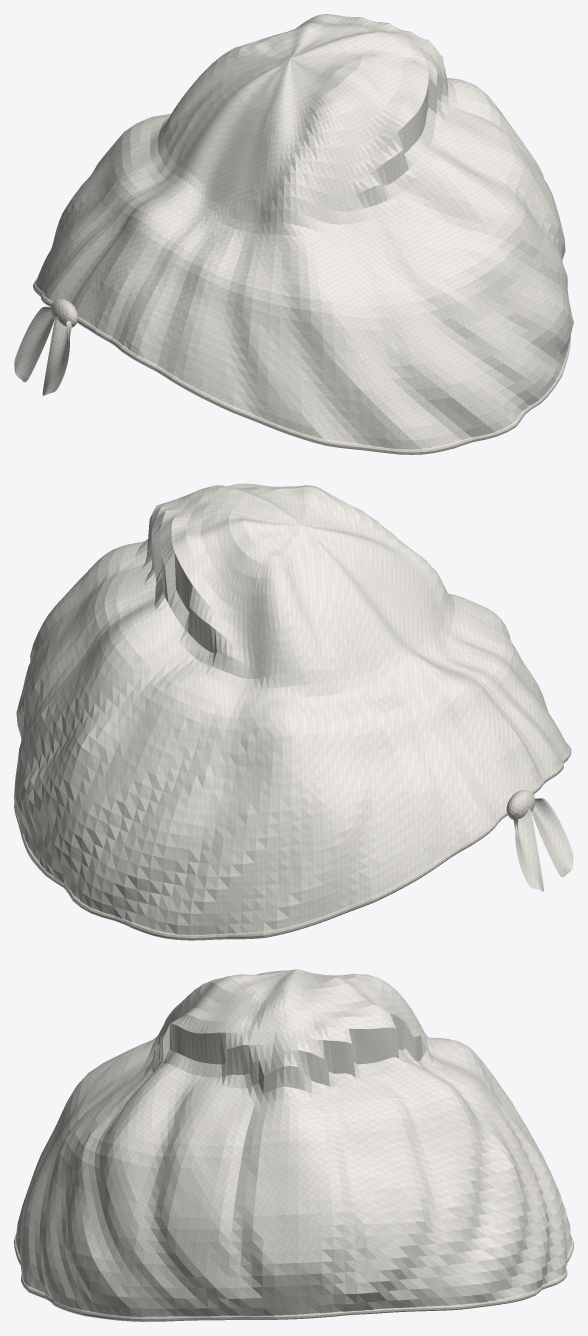
Rendered from side_kitchengirl_headcloth.glb.
The picture shows the model from 3 angles, top to bottom: view 1: azimuth 30°, elevation 25°; view 2: azimuth 150°, elevation 25°; view 3: azimuth 270°, elevation 25°; orthographic projection. The views are drawn at different scales.
Parts seen in each view (by area): view 1: ivory_linen, linen_hem; view 2: ivory_linen, linen_hem; view 3: ivory_linen, linen_hem.
Part boxes in pixels (x1=…): ivory_linen: x1=14, y1=14, x2=573, y2=449; linen_hem: x1=33, y1=279, x2=570, y2=454; ivory_linen: x1=14, y1=483, x2=573, y2=934; linen_hem: x1=14, y1=743, x2=571, y2=940; ivory_linen: x1=16, y1=969, x2=571, y2=1316; linen_hem: x1=14, y1=1234, x2=573, y2=1321.
Size of the model in its own units: 16.49 by 9.59 by 16.47.
3 materials, 3 textured.
